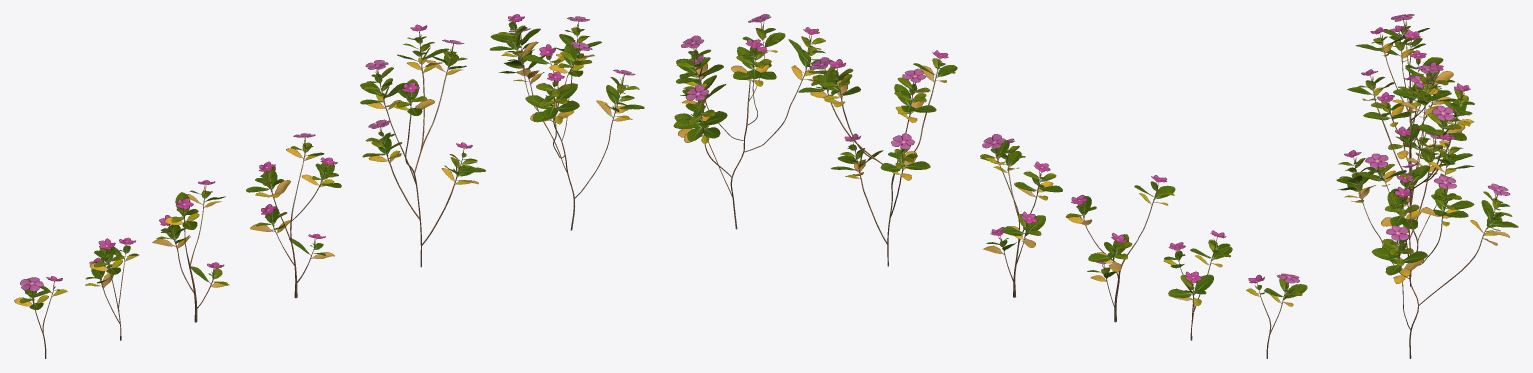
File: periwinkle_plant.glb
3 renders of one model, left to right at view 1: azimuth 30°, elevation 25°; view 2: azimuth 150°, elevation 25°; view 3: azimuth 270°, elevation 25°, orthographic. The views are drawn at different scales.
Visible parts, largest first — view 1: periwinkle_plant_04_LOD0; view 2: periwinkle_plant_04_LOD0; view 3: periwinkle_plant_04_LOD0.
Boxes of the visible parts, bbox=[...] form: periwinkle_plant_04_LOD0: bbox=[14, 14, 644, 358]; periwinkle_plant_04_LOD0: bbox=[673, 14, 1307, 358]; periwinkle_plant_04_LOD0: bbox=[1336, 14, 1518, 358].
Size of the model in its own units: 1.24 by 0.4107 by 0.3208.
Materials: 1 (1 with a texture image).
